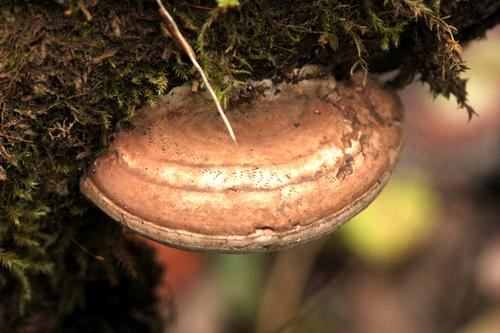Ganoderma - Fruit Body: (77, 64, 405, 253)
